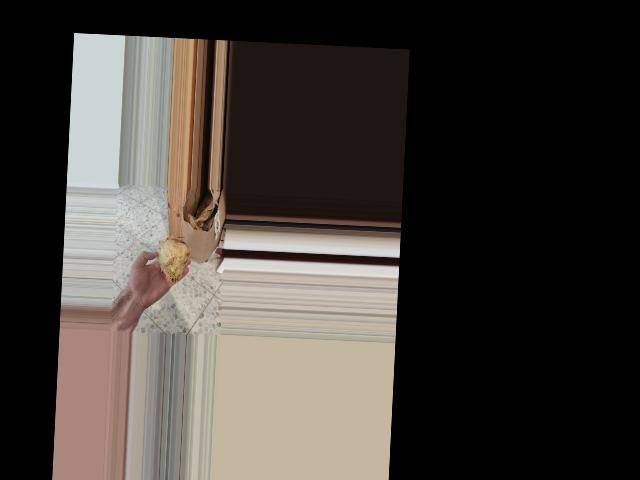onion: (154, 234, 191, 286)
